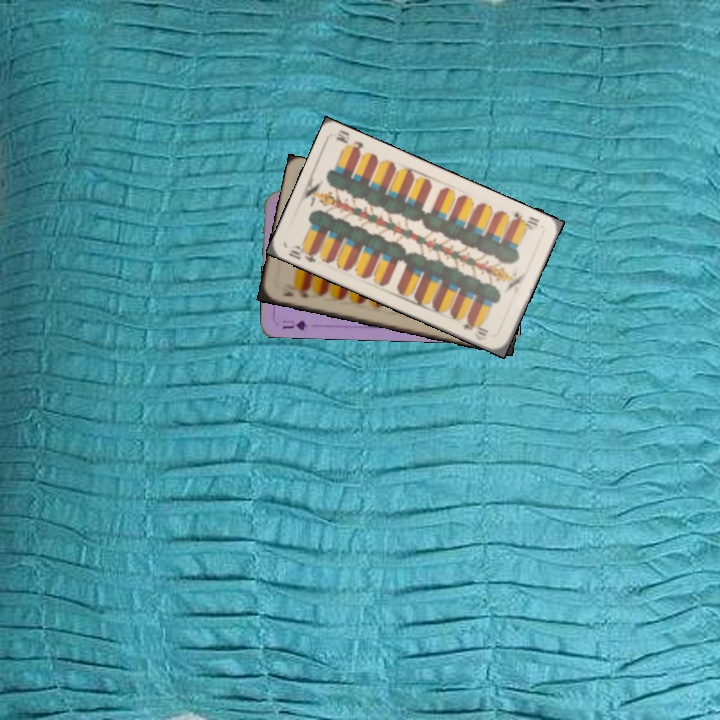E10: (507, 208, 542, 233), (285, 241, 320, 265), (279, 285, 313, 300)
GU: (278, 316, 311, 333)
